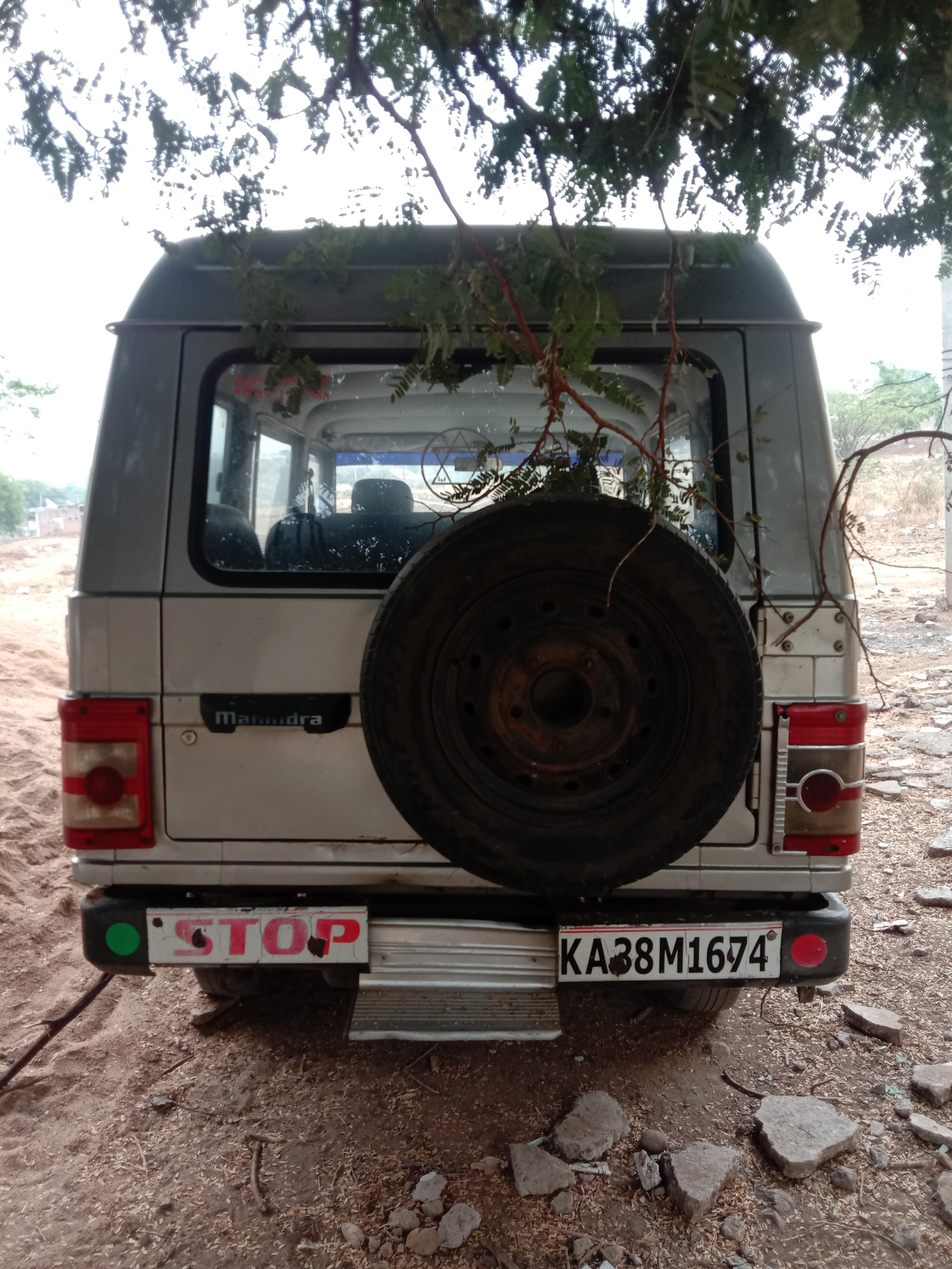number_platerotation: (553, 916, 787, 987)
